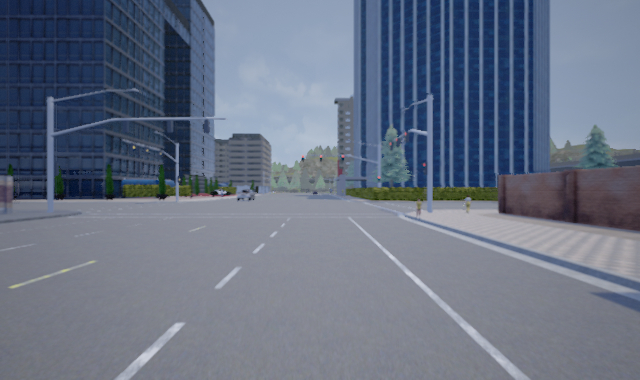pedestrian: (460, 192, 475, 213), (412, 197, 425, 218)
traffic_light: (422, 159, 427, 174), (404, 129, 409, 143), (395, 135, 400, 147), (389, 139, 393, 151), (340, 153, 344, 163), (377, 175, 381, 183), (301, 154, 304, 162), (319, 155, 322, 162)
vehicle: (236, 189, 255, 202), (209, 189, 231, 197)
